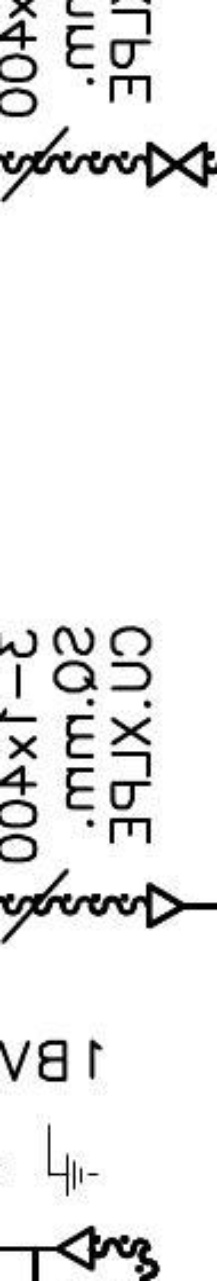terminator_single: (144, 880, 186, 932)
terminator_splicing_kits: (145, 140, 209, 189)
